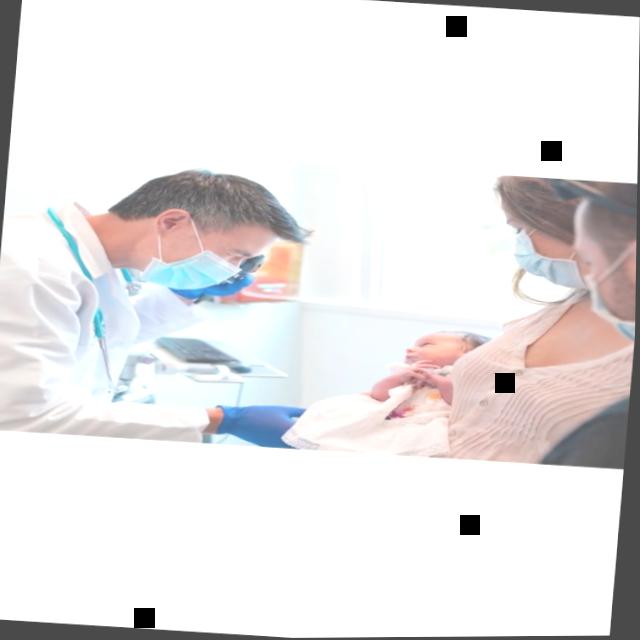Mask: (111, 192, 303, 302), (500, 205, 591, 291)
NO-Mask: (568, 217, 637, 324), (402, 328, 467, 369)
